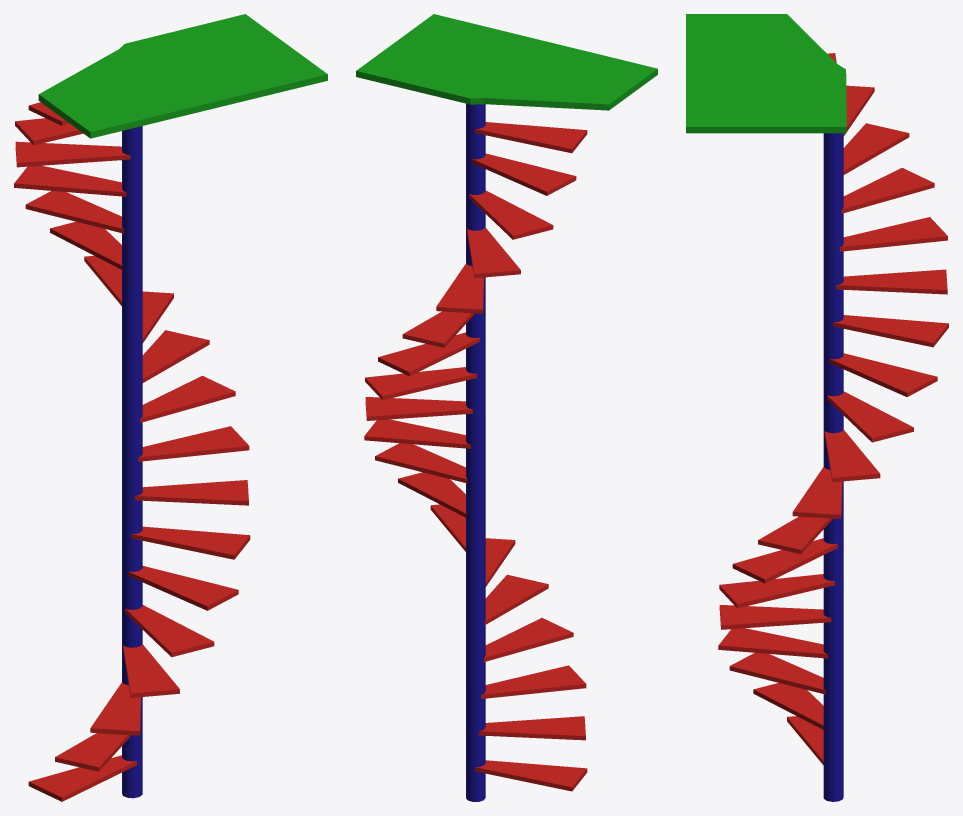
Rendered from Spiral_Staircase.fbx.
The picture shows the model from 3 angles, left to right: view 1: azimuth 30°, elevation 25°; view 2: azimuth 150°, elevation 25°; view 3: azimuth 270°, elevation 25°; orthographic projection. The views are drawn at different scales.
Visible parts, largest first — view 1: Spiral_Staircase; view 2: Spiral_Staircase; view 3: Spiral_Staircase.
Boxes of the visible parts, box(x1,y1,x2,y2) form: Spiral_Staircase: box(14, 14, 327, 801); Spiral_Staircase: box(356, 14, 657, 801); Spiral_Staircase: box(686, 14, 948, 801).
Bounding box in the file's own units: 1.05 × 1.03 × 3.15.
